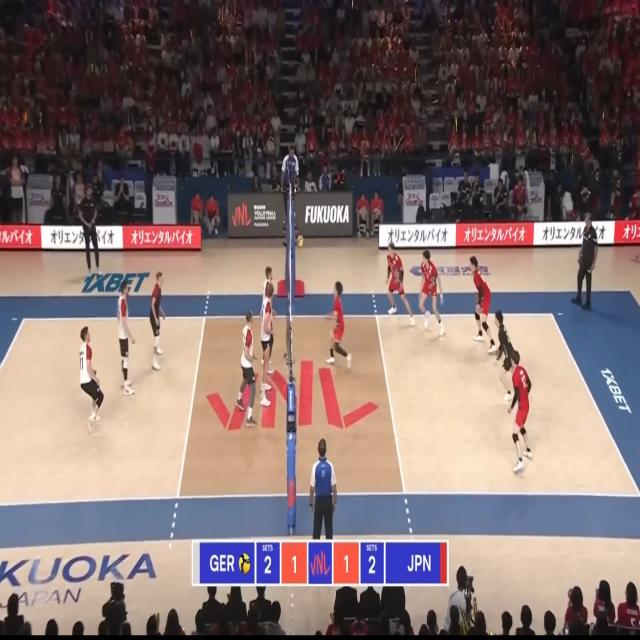ball: (296, 234, 304, 248)
